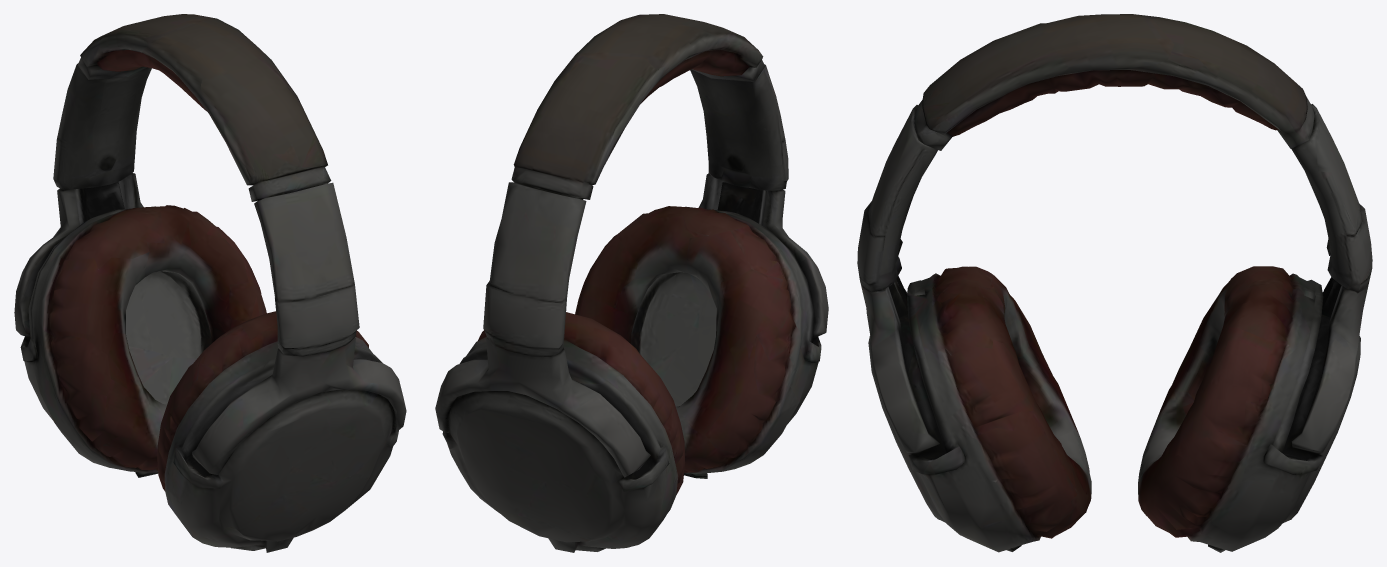
The model's file is headphones-v1.glb.
3 views of the same model, side by side, from view 1: azimuth 30°, elevation 25°; view 2: azimuth 150°, elevation 25°; view 3: azimuth 270°, elevation 25° (orthographic). The views are drawn at different scales.
Visible parts, largest first — view 1: prop__headphones; view 2: prop__headphones; view 3: prop__headphones.
Boxes of the visible parts, x1,y1,x2,y2 form: prop__headphones: (14,14,406,552); prop__headphones: (435,14,828,552); prop__headphones: (857,14,1372,552).
Bounding box in the file's own units: 0.1041 × 0.22 × 0.2024.
Materials: 1 (1 with a texture image).
